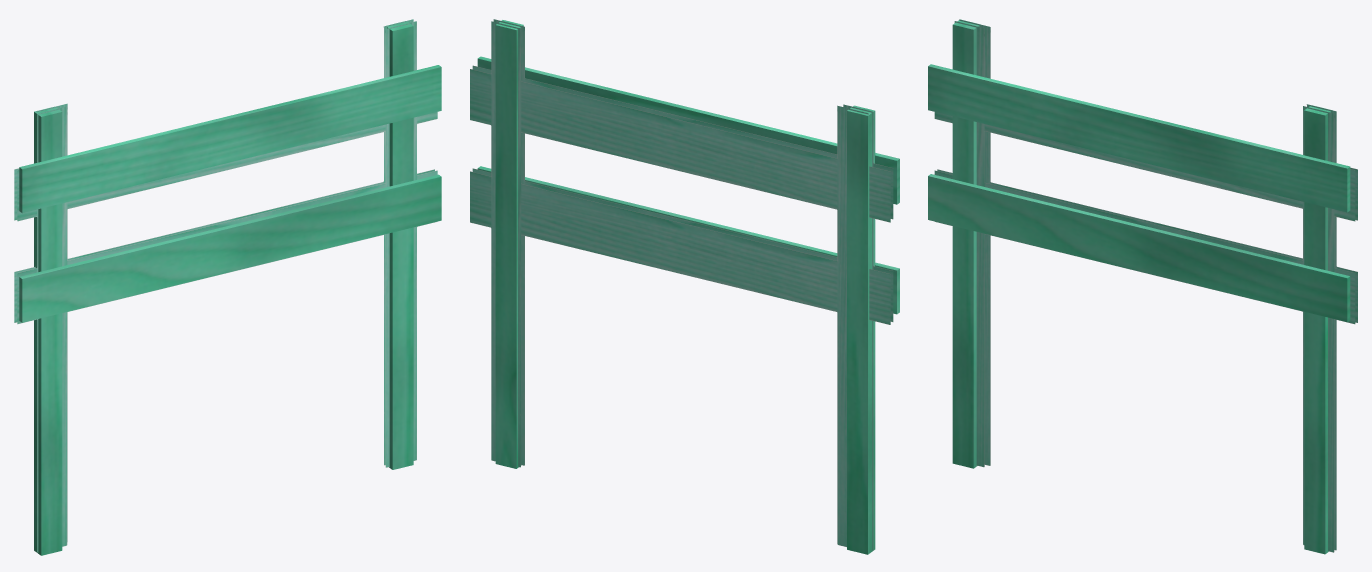
Rendered from E_Barrier3.fbx.
The picture shows the model from 3 angles, left to right: view 1: azimuth 30°, elevation 25°; view 2: azimuth 150°, elevation 25°; view 3: azimuth 330°, elevation 25°; orthographic projection.
Parts seen in each view (by area): view 1: hp_e_barrier03, lp_e_barrier03; view 2: lp_e_barrier03, hp_e_barrier03; view 3: hp_e_barrier03, lp_e_barrier03.
Boxes of the visible parts, x1,y1,x2,y2 form: hp_e_barrier03: (19, 21, 441, 555); lp_e_barrier03: (14, 19, 437, 552); lp_e_barrier03: (470, 19, 893, 550); hp_e_barrier03: (477, 20, 899, 554); hp_e_barrier03: (928, 19, 1350, 554); lp_e_barrier03: (934, 19, 1357, 552).
Size of the model in its own units: 100 by 100 by 4.17.
